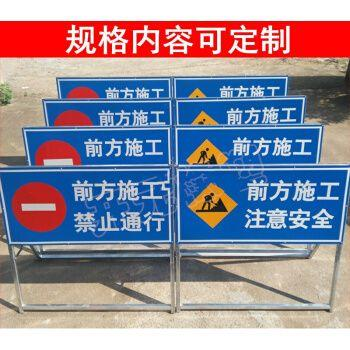sign: (179, 169, 346, 242), (2, 173, 168, 235), (181, 130, 319, 161), (26, 132, 167, 161), (179, 102, 304, 124), (46, 103, 170, 125)
